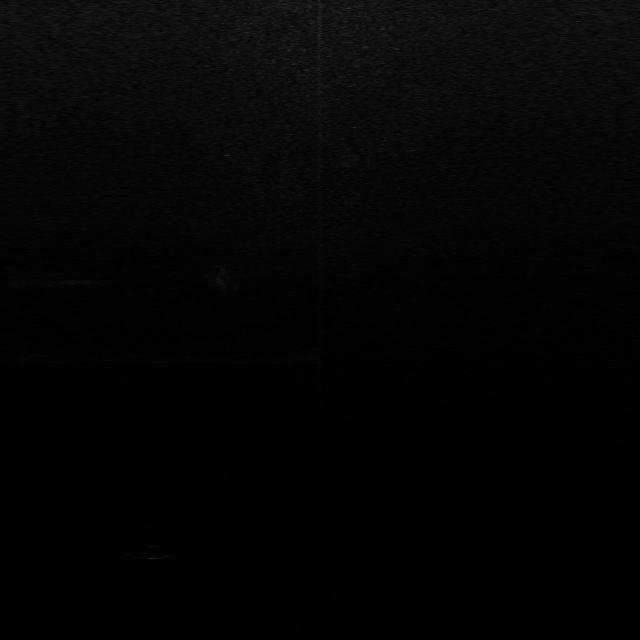tyre: (126, 543, 174, 559)
